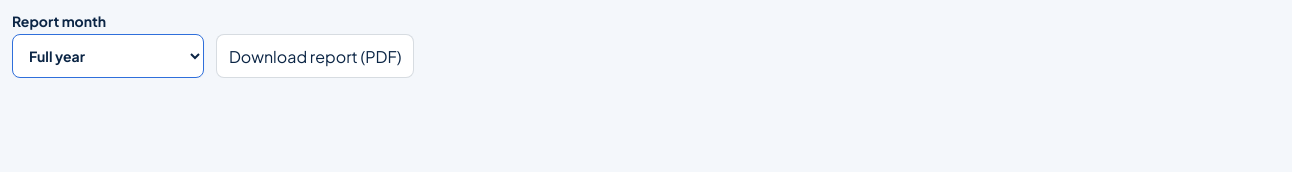
it: shows the API error in an alert and allows retry
Click the button "Download report (PDF)". click: (315,56)
box: [216,34,414,78]
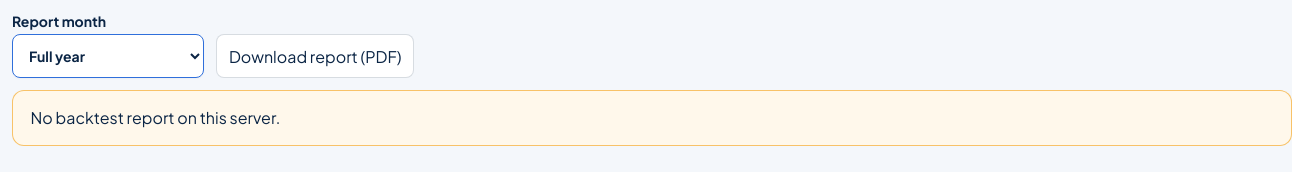
Now the message reads "No backtest report on this server.", box [31,107,280,128]
